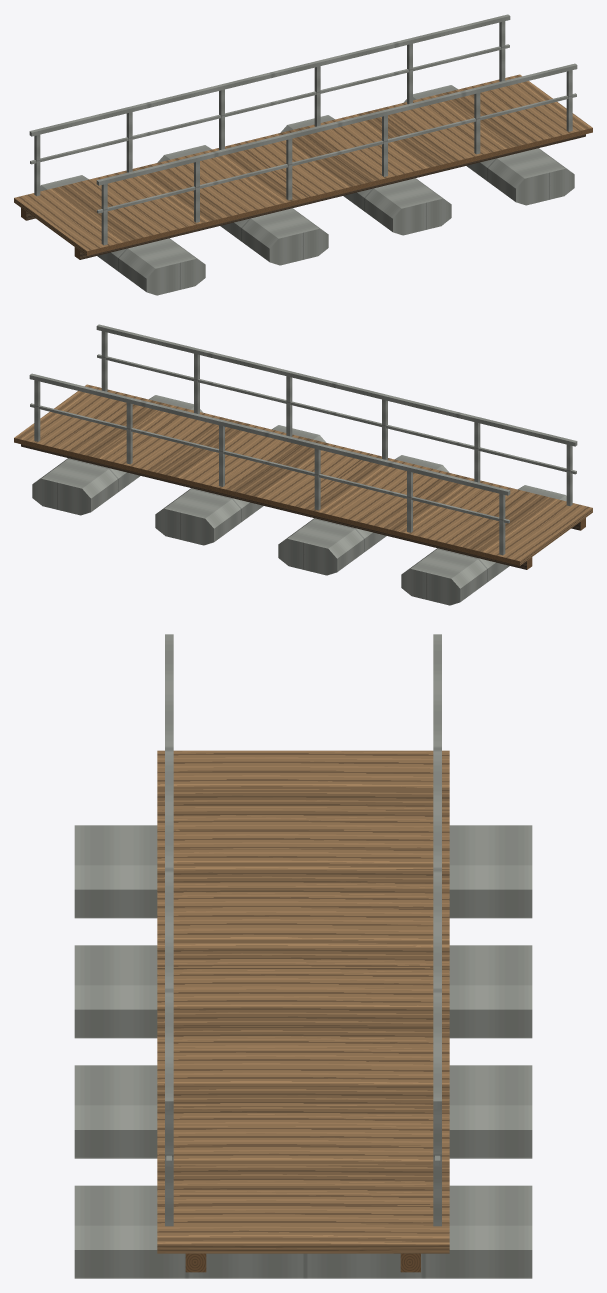
3 renders of one model, top to bottom at view 1: azimuth 30°, elevation 25°; view 2: azimuth 150°, elevation 25°; view 3: azimuth 270°, elevation 25°, orthographic. The views are drawn at different scales.
Visible parts, largest first — view 1: willemstad; view 2: willemstad; view 3: willemstad.
Part boxes in pixels (x1,y1,x2,y2): willemstad: (14, 14, 592, 295); willemstad: (14, 324, 592, 605); willemstad: (74, 634, 532, 1278).
Bounding box in the file's own units: 7.4 × 1.48 × 2.9.
1 material, 1 textured.
